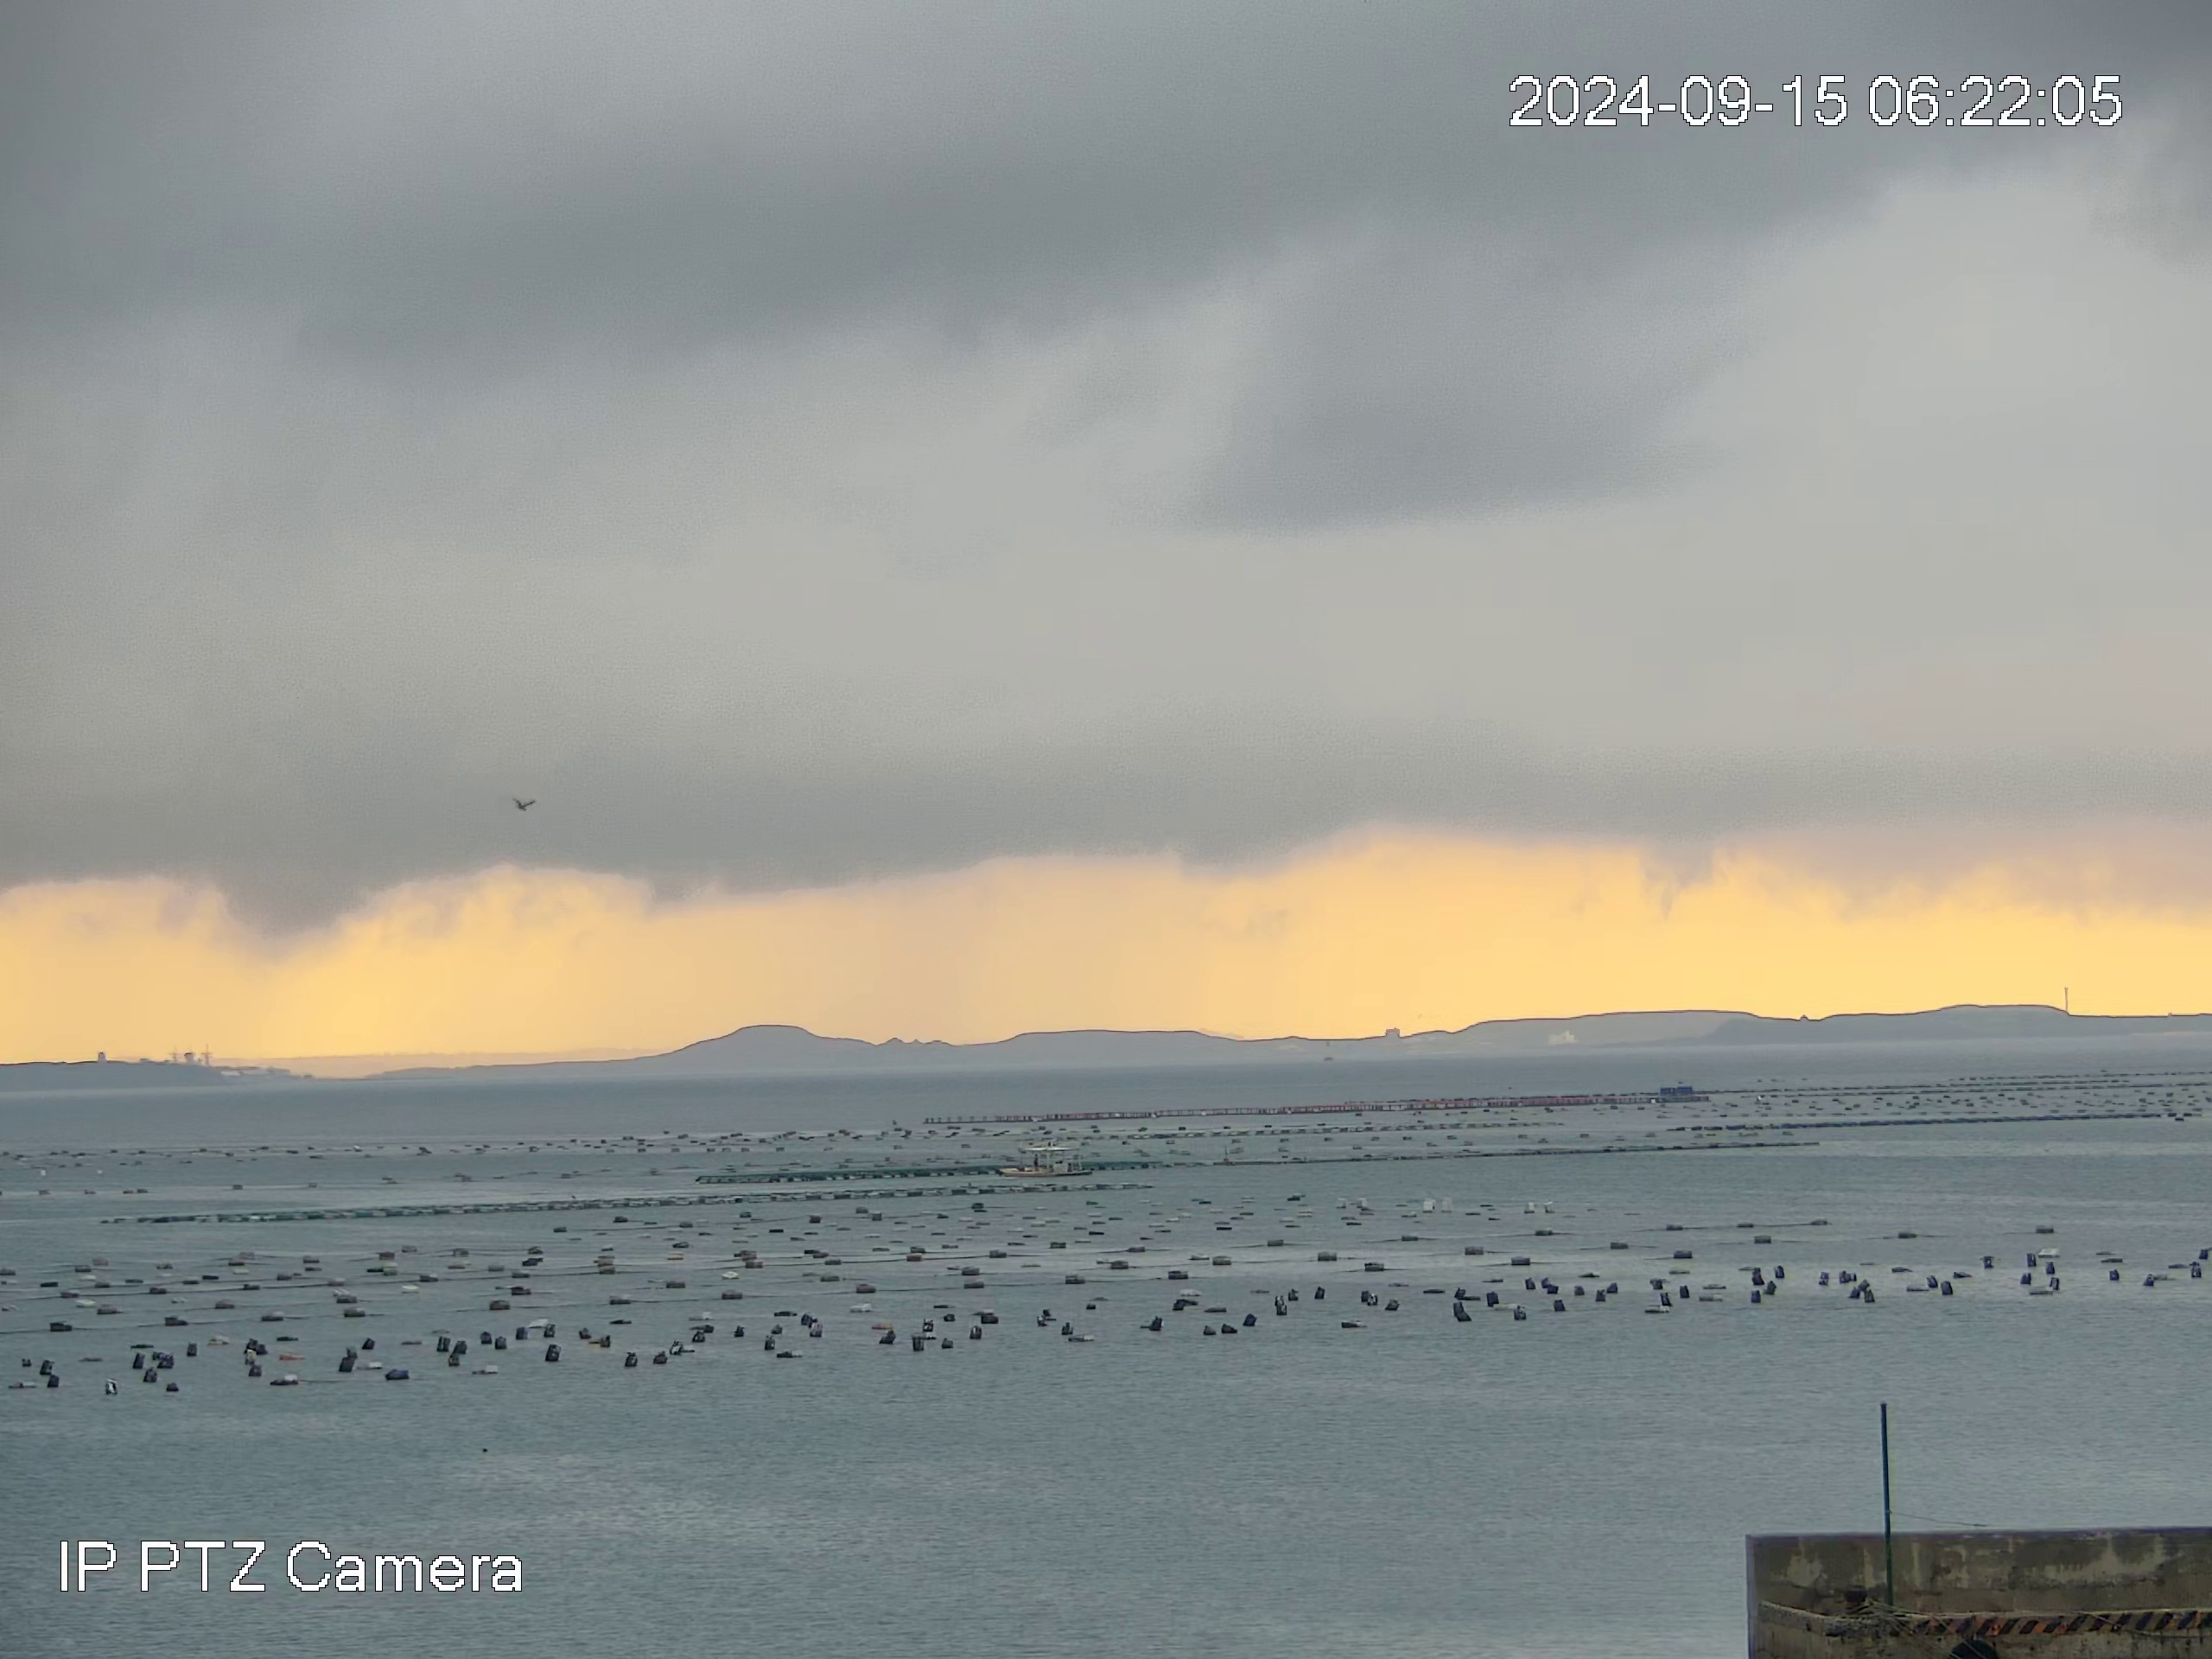boat: (1003, 1145, 1090, 1180)
